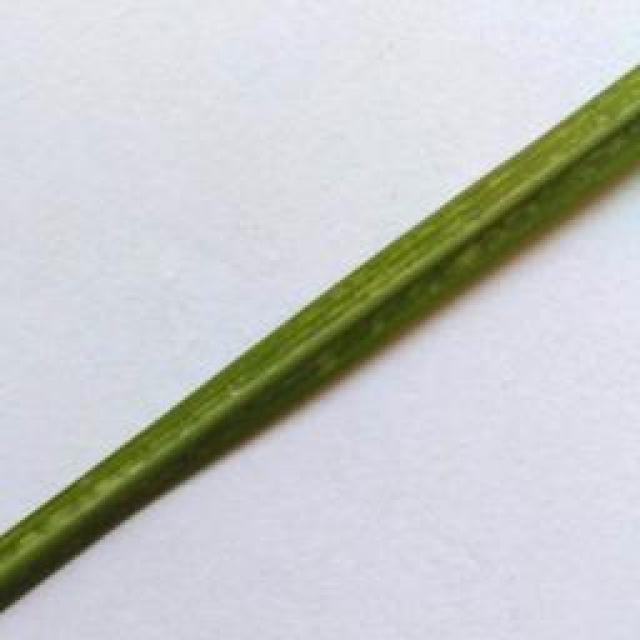Healthy-Plant: (0, 72, 640, 608)
